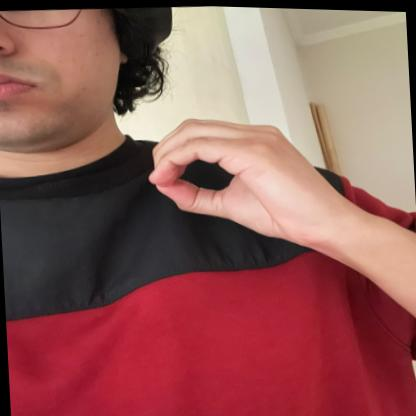O: (141, 100, 333, 256)
